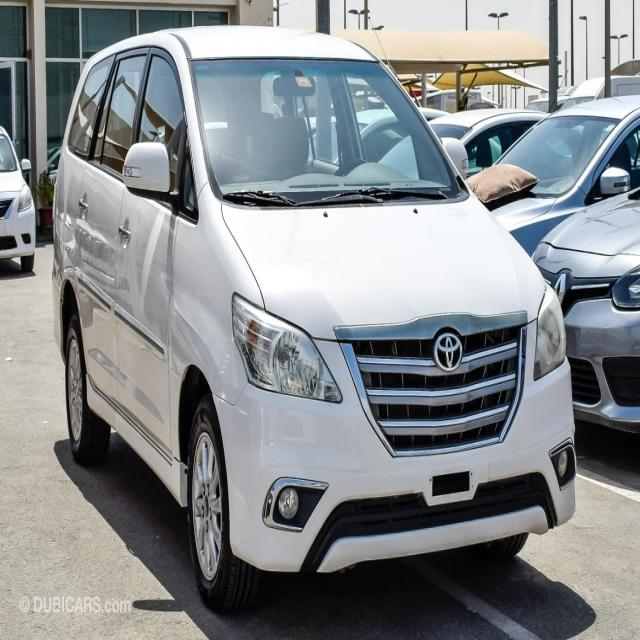light_vehicle: (50, 23, 577, 614)
